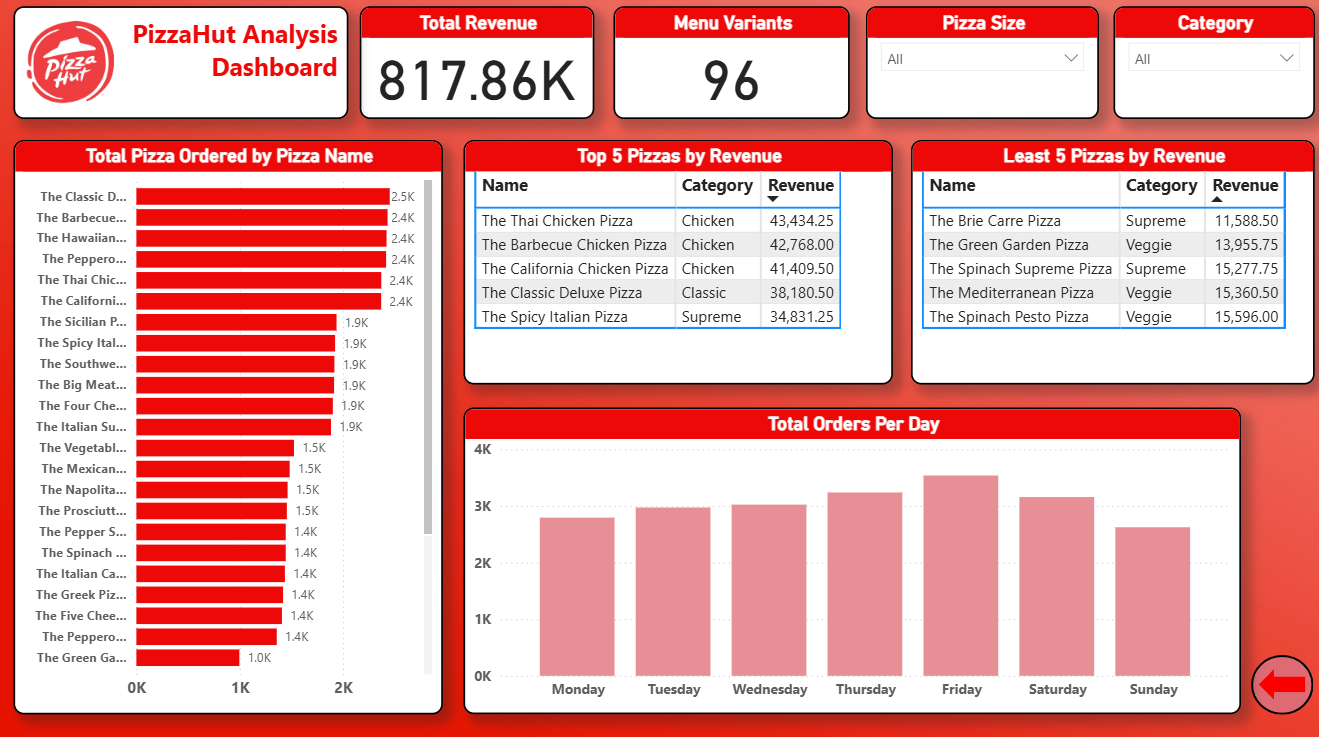

What the dashboard file says about the page in this screenshot:
{"tool":"powerbi","page":{"name":"DashBoard 2","canvas":[1280,720],"ordinal":1},"visuals":[{"type":"card","title":"Total Revenue","fields":{"Values":["order_details.Total_Revenue"]},"box":[351.3,11,226.4,108.4],"z":0},{"type":"card","title":"Menu Variants","fields":{"Values":["Count(pizzas.pizza_id)"]},"box":[595.5,11,227.8,108.4],"z":1000},{"type":"textbox","box":[16.9,10.9,323.3,108.6],"z":2000},{"type":"image","box":[16.9,10.9,109.8,108.6],"z":3000},{"type":"slicer","title":"Category","fields":{"Values":["pizza_types.category"]},"box":[1078.6,10.9,194.2,108.6],"z":4000},{"type":"tableEx","title":"Top 5  Pizzas by Revenue","fields":{"Values":["pizza_types.name","pizza_types.category","order_details.Total_Revenue"]},"box":[451.5,140,414.4,236],"z":5000},{"type":"tableEx","title":"Least 5 Pizzas by Revenue","fields":{"Values":["pizza_types.name","pizza_types.category","order_details.Total_Revenue"]},"box":[883.7,140,389.7,236],"z":6000},{"type":"slicer","title":"Pizza Size","fields":{"Values":["pizzas.size"]},"box":[839.8,11,225,108.4],"z":7000},{"type":"shape","box":[1211.7,636.7,60.4,57.6],"z":8000},{"type":"shape","box":[1218.5,650.4,45.3,30.2],"z":9000},{"type":"clusteredBarChart","title":"Total Pizza Ordered by Pizza Name","fields":{"Category":["pizza_types.name"],"Y":["Sum(order_details.quantity)"]},"box":[16.5,140,414.4,554.4],"z":10000},{"type":"clusteredColumnChart","title":"Total Orders Per Day","fields":{"Category":["Custom_calendar.Day Name"],"Y":["order_details.Total Orders"]},"box":[451.5,397.9,750.6,296.4],"z":11000}]}

Visuals, with their boxes in screenshot pixels (x1, y1, x2, y2), scaled from the page's 1280x720 canvas onto the 1319x737 screenshot:
"Total Revenue" card: pyautogui.locateOnScreen(362, 11, 595, 122)
"Menu Variants" card: pyautogui.locateOnScreen(614, 11, 848, 122)
textbox: pyautogui.locateOnScreen(17, 11, 351, 122)
image: pyautogui.locateOnScreen(17, 11, 131, 122)
"Category" slicer: pyautogui.locateOnScreen(1111, 11, 1312, 122)
"Top 5  Pizzas by Revenue" tableEx: pyautogui.locateOnScreen(465, 143, 892, 385)
"Least 5 Pizzas by Revenue" tableEx: pyautogui.locateOnScreen(911, 143, 1312, 385)
"Pizza Size" slicer: pyautogui.locateOnScreen(865, 11, 1097, 122)
shape: pyautogui.locateOnScreen(1249, 652, 1311, 711)
shape: pyautogui.locateOnScreen(1256, 666, 1302, 697)
"Total Pizza Ordered by Pizza Name" clusteredBarChart: pyautogui.locateOnScreen(17, 143, 444, 711)
"Total Orders Per Day" clusteredColumnChart: pyautogui.locateOnScreen(465, 407, 1239, 711)
